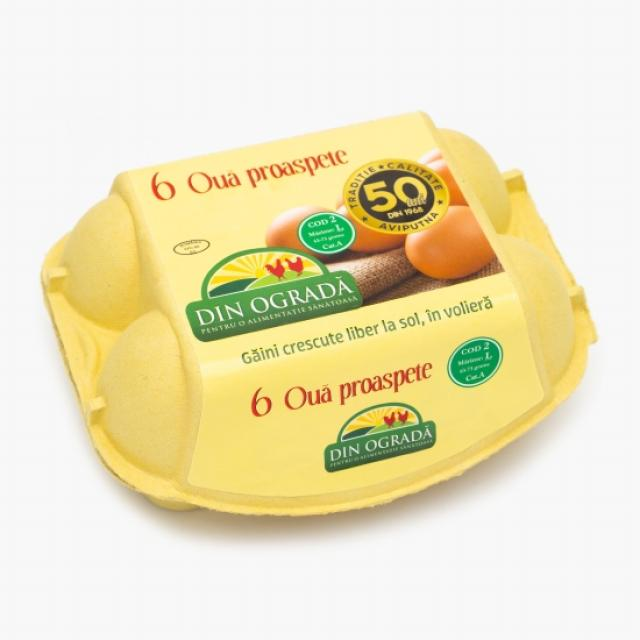eggs: (44, 109, 598, 517)
